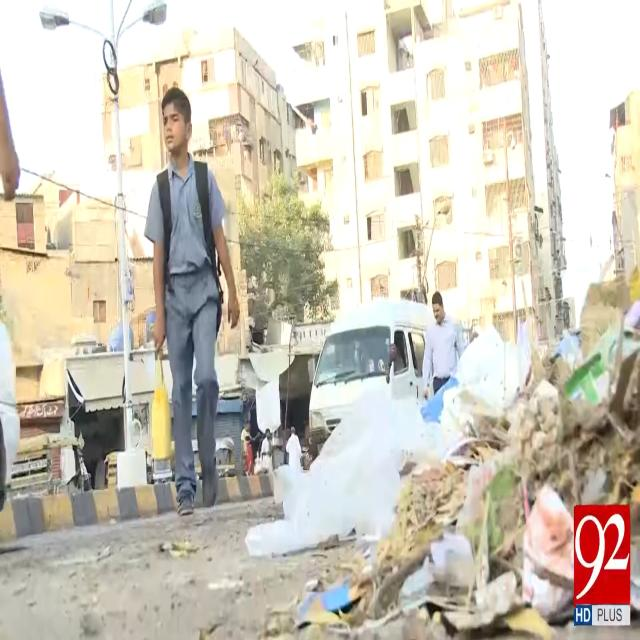high trash: (246, 280, 640, 639)
less trash: (160, 540, 199, 558), (208, 578, 244, 592)
